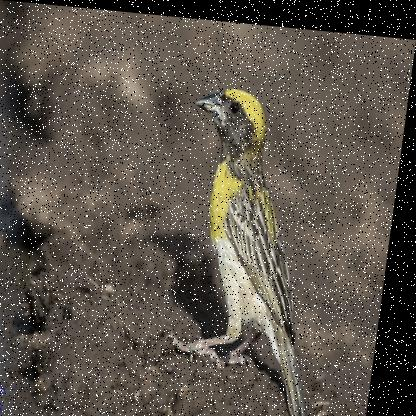Burung: (165, 80, 355, 415)
